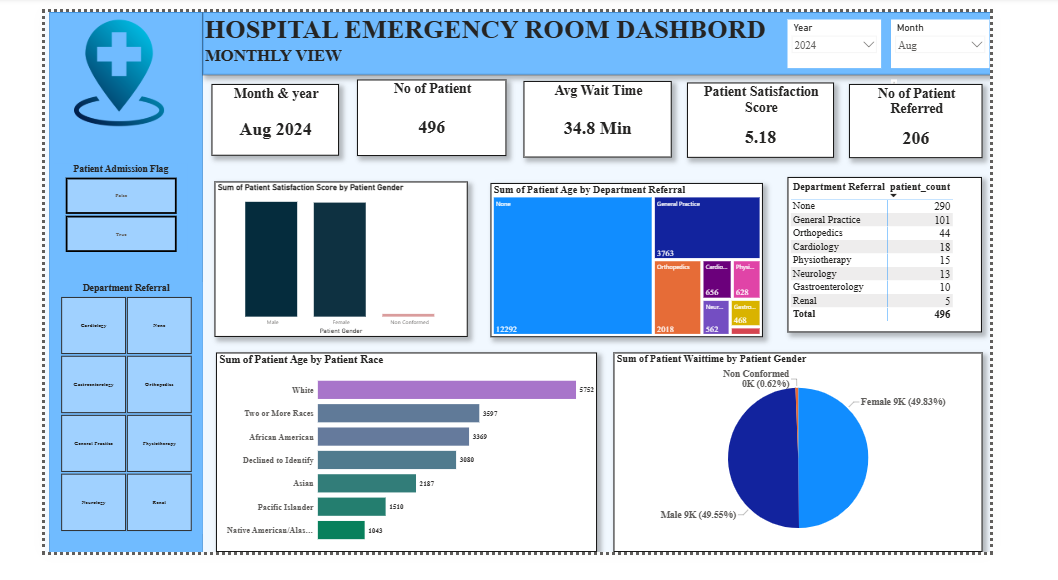

The page's visual inventory and layout, read from the dashboard file:
{"tool":"powerbi","page":{"name":"Page 1","canvas":[2100,1200],"ordinal":0},"visuals":[{"type":"shape","box":[10.8,0,340,1397.9],"z":0},{"type":"shape","box":[350,0,1950,140],"z":1000},{"type":"textbox","box":[350,0,1280,97.5],"z":2000},{"type":"textbox","box":[350,70,605,70],"z":3000},{"type":"slicer","fields":{"Values":["Calander.Year"]},"box":[1648.9,16.2,207.8,107.9],"z":4000},{"type":"slicer","fields":{"Values":["Calander.Month"]},"box":[1881,16.2,218.6,107.9],"z":5000},{"type":"card","title":"Month & year","fields":{"Values":["Min(Calander.month and year)"]},"box":[369.7,159.2,283.4,159.2],"z":6000},{"type":"textbox","box":[1881,148.4,13.5,13.5],"z":7000},{"type":"image","box":[12.5,15,302.5,237.5],"z":8000},{"type":"card","title":"No of Patient","fields":{"Values":["hospital_data.NO_of_patients"]},"box":[693.6,148.4,331.9,170],"z":9000},{"type":"card","title":"Avg Wait Time ","fields":{"Values":["hospital_data.avg wait time"]},"box":[1063.3,153.8,329.2,170],"z":10000},{"type":"card","title":"Patient Satisfaction Score","fields":{"Values":["hospital_data.patient_Satisfaction_score"]},"box":[1427.6,156.5,326.5,167.3],"z":11000},{"type":"card","title":"No of Patient Referred","fields":{"Values":["hospital_data.NO_patients_reff"]},"box":[1786.5,159.2,296.9,164.6],"z":12000},{"type":"slicer","title":"Patient Admission Flag","fields":{"Values":["hospital_data.Patient Admission Flag"]},"box":[20,336.7,296.7,203.3],"z":13000},{"type":"lineStackedColumnComboChart","fields":{"Category":["hospital_data.Patient Gender"],"Y":["Sum(hospital_data.Patient Satisfaction Score)"]},"box":[375,375,562.5,345],"z":14000},{"type":"pieChart","fields":{"Y":["Sum(hospital_data.Patient Waittime)"],"Category":["hospital_data.Patient Gender"]},"box":[1263.3,756.7,820,443.3],"z":15000},{"type":"clusteredBarChart","fields":{"Category":["hospital_data.Patient Race"],"Y":["Sum(hospital_data.Patient Age)"]},"box":[380,756.7,846.7,443.3],"z":16000},{"type":"treemap","fields":{"Group":["hospital_data.Department Referral"],"Values":["Sum(hospital_data.Patient Age)"]},"box":[990,380,605,342.5],"z":17000},{"type":"slicer","title":"Department Referral","fields":{"Values":["hospital_data.Department Referral"]},"box":[10,600,340,560],"z":18000},{"type":"pivotTable","title":"hhfhfh","fields":{"Rows":["hospital_data.Department Referral"],"Values":["hospital_data.patient_count"]},"box":[1648.9,367,431.8,345.4],"z":19000}]}

Visuals, with their boxes on the page's 2100x1200 design canvas (x1, y1, x2, y2). These are canvas units, not pixel positions in the 1058x580 screenshot, which may show the page scaled, cropped or inside an application window:
shape: detection(11, 0, 351, 1398)
shape: detection(350, 0, 2300, 140)
textbox: detection(350, 0, 1630, 98)
textbox: detection(350, 70, 955, 140)
slicer - Calander.Year: detection(1649, 16, 1857, 124)
slicer - Calander.Month: detection(1881, 16, 2100, 124)
"Month & year" card: detection(370, 159, 653, 318)
textbox: detection(1881, 148, 1894, 162)
image: detection(12, 15, 315, 252)
"No of Patient" card: detection(694, 148, 1026, 318)
"Avg Wait Time " card: detection(1063, 154, 1392, 324)
"Patient Satisfaction Score" card: detection(1428, 156, 1754, 324)
"No of Patient Referred" card: detection(1786, 159, 2083, 324)
"Patient Admission Flag" slicer: detection(20, 337, 317, 540)
lineStackedColumnComboChart - hospital_data.Patient Gender x Sum(hospital_data.Patient Satisfaction Score): detection(375, 375, 938, 720)
pieChart - Sum(hospital_data.Patient Waittime) x hospital_data.Patient Gender: detection(1263, 757, 2083, 1200)
clusteredBarChart - hospital_data.Patient Race x Sum(hospital_data.Patient Age): detection(380, 757, 1227, 1200)
treemap - hospital_data.Department Referral x Sum(hospital_data.Patient Age): detection(990, 380, 1595, 722)
"Department Referral" slicer: detection(10, 600, 350, 1160)
"hhfhfh" pivotTable: detection(1649, 367, 2081, 712)
